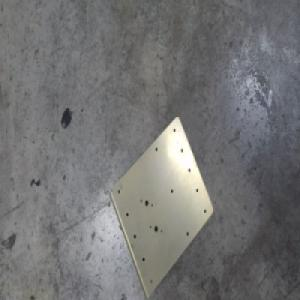MetalSheet: (107, 116, 214, 299)
